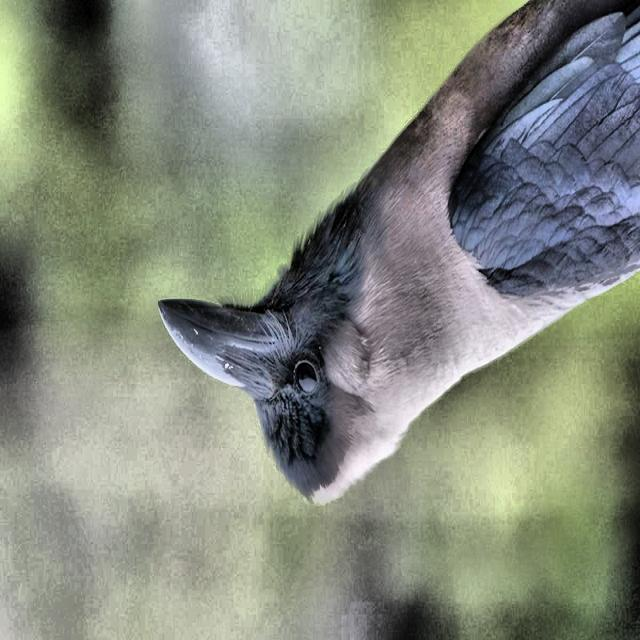crow: (151, 9, 640, 505)
